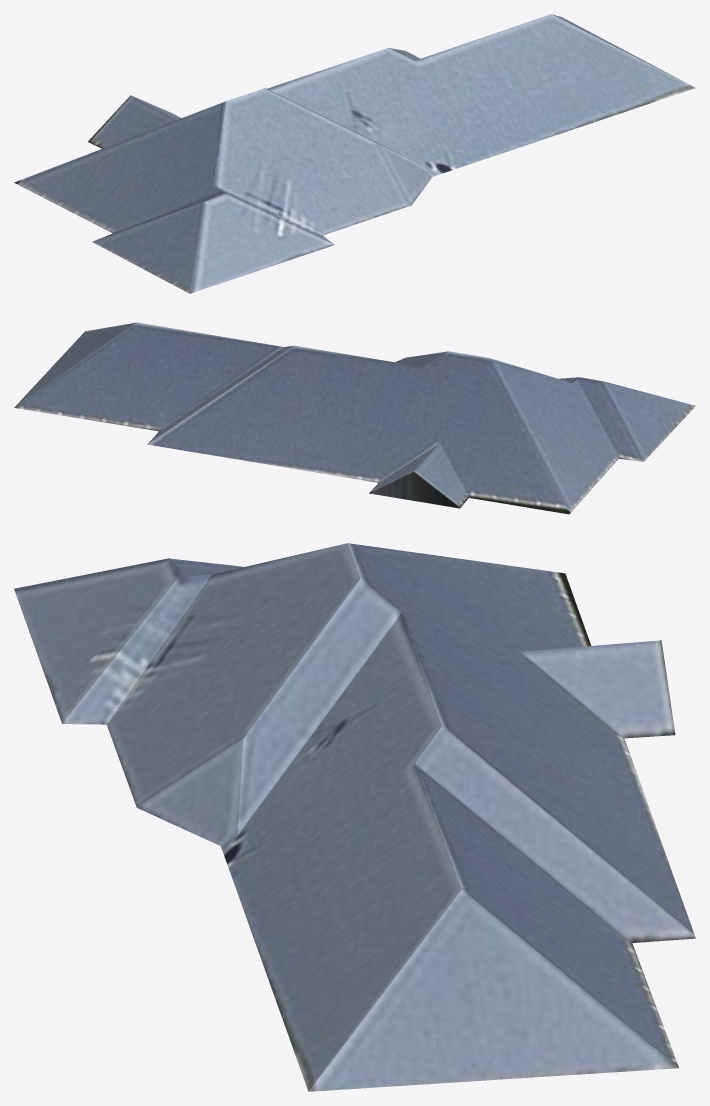
Rendered from CG10_500_036064_0025_roof.obj.
3 renders of one model, top to bottom at view 1: azimuth 30°, elevation 25°; view 2: azimuth 150°, elevation 25°; view 3: azimuth 270°, elevation 25°, orthographic. The views are drawn at different scales.
Visible parts, largest first — view 1: CG10_500_036064_0025_roof; view 2: CG10_500_036064_0025_roof; view 3: CG10_500_036064_0025_roof.
Part boxes in pixels (x1,y1,x2,y2): CG10_500_036064_0025_roof: (14, 14, 695, 293); CG10_500_036064_0025_roof: (14, 322, 695, 514); CG10_500_036064_0025_roof: (14, 543, 695, 1091).
Size of the model in its own units: 494 by 70 by 274.
Materials: 1 (1 with a texture image).
